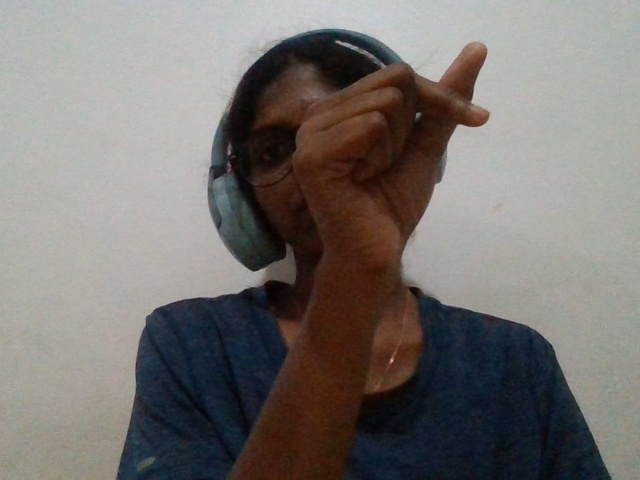G: (279, 34, 538, 325)
